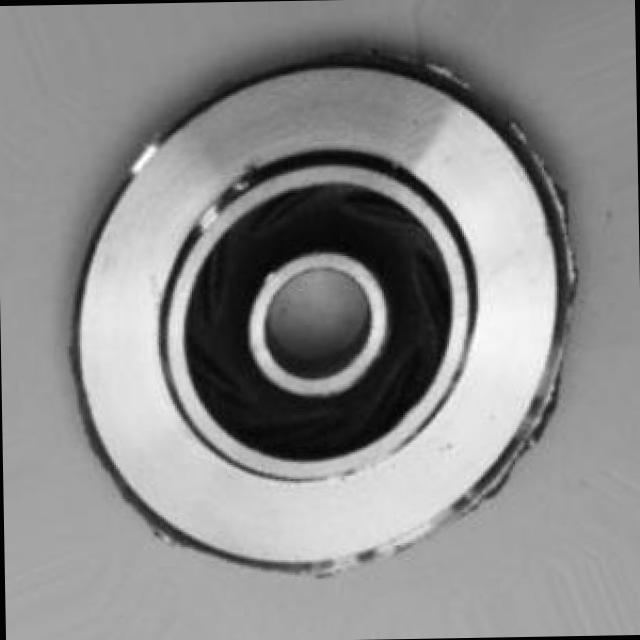Defect: (504, 373, 576, 454)
